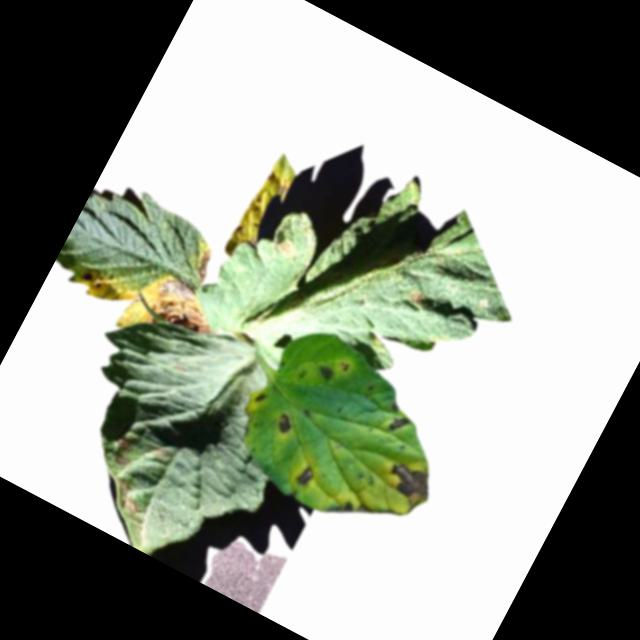Early_blight: (136, 269, 227, 352), (376, 455, 438, 516), (104, 476, 149, 519), (376, 400, 416, 443), (256, 164, 292, 202), (187, 244, 218, 285), (322, 491, 357, 525), (109, 435, 139, 469), (270, 234, 297, 263), (268, 409, 295, 437), (295, 464, 318, 489), (76, 266, 98, 288), (313, 363, 335, 385), (405, 288, 425, 309), (252, 390, 267, 407)
